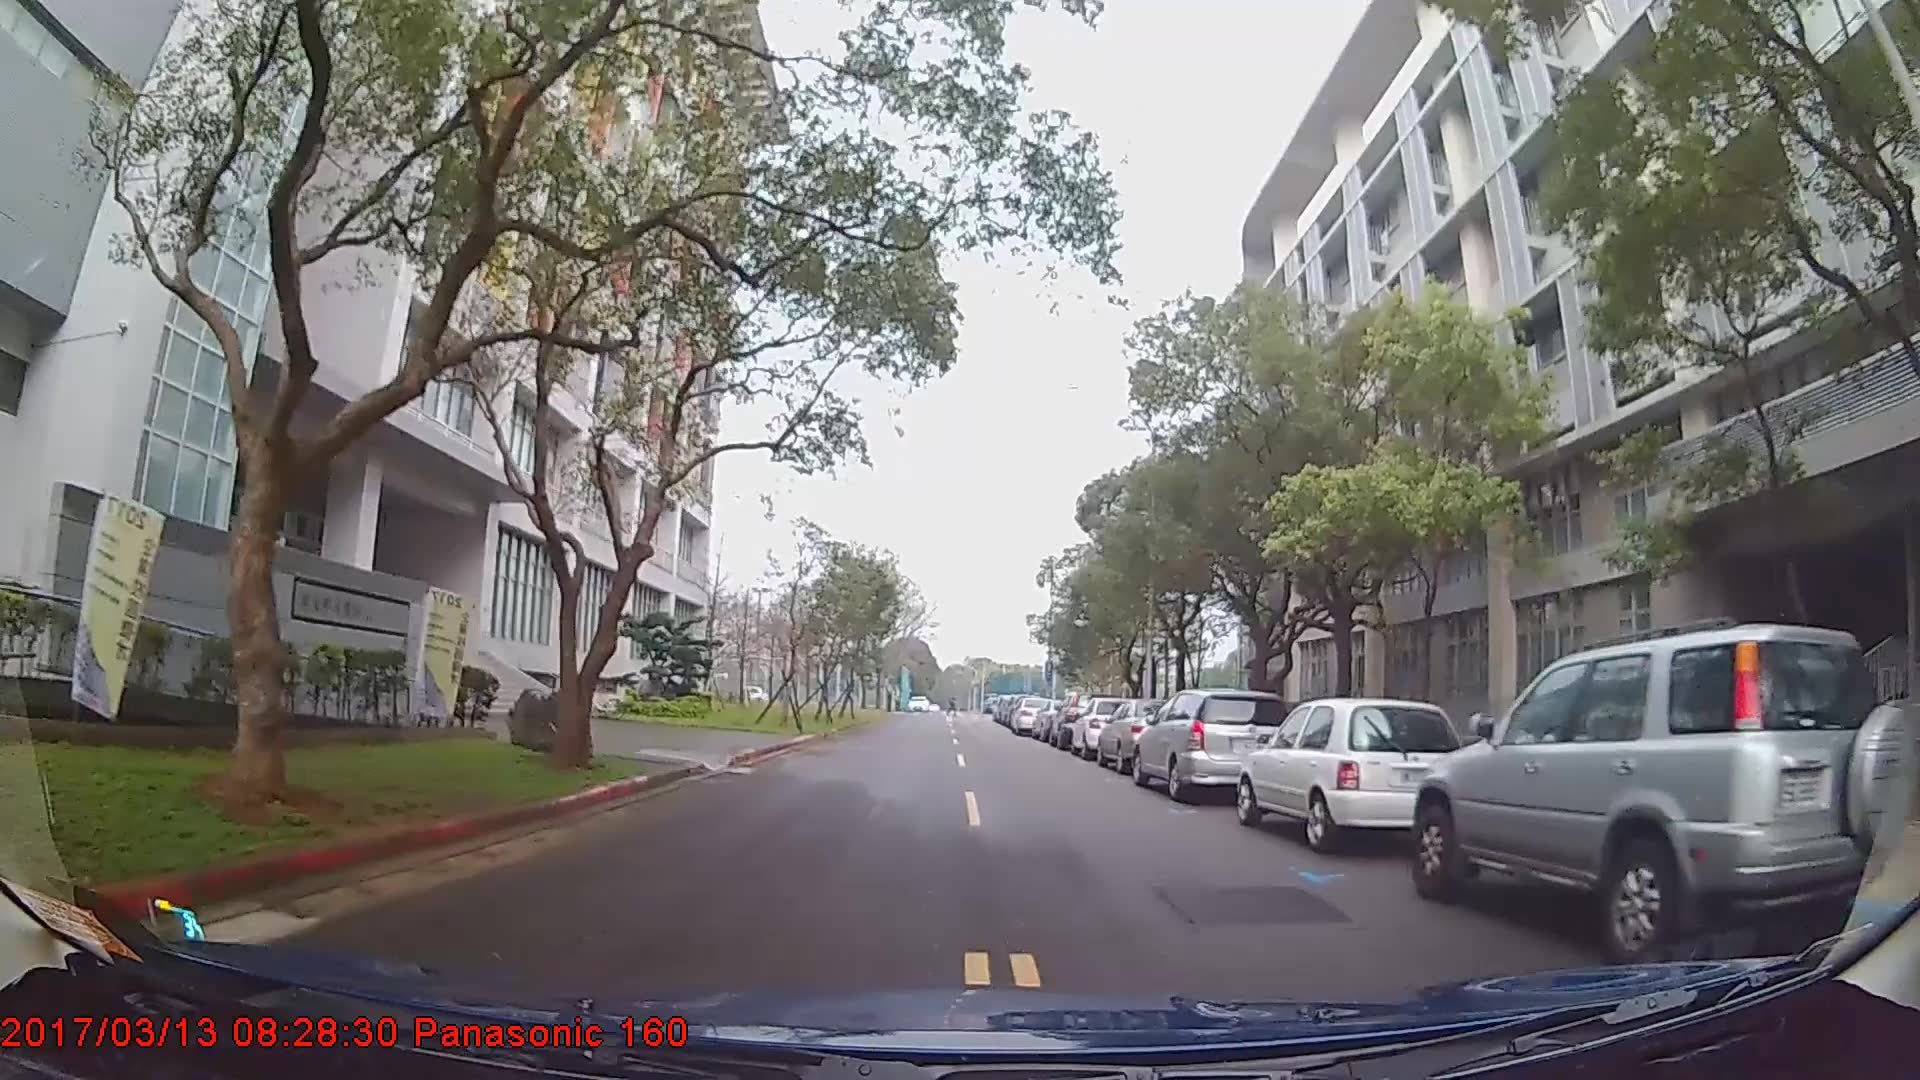vehicle: (1410, 620, 1920, 971), (1236, 695, 1466, 853), (1127, 688, 1295, 800), (1095, 694, 1189, 771), (1007, 694, 1054, 736)
